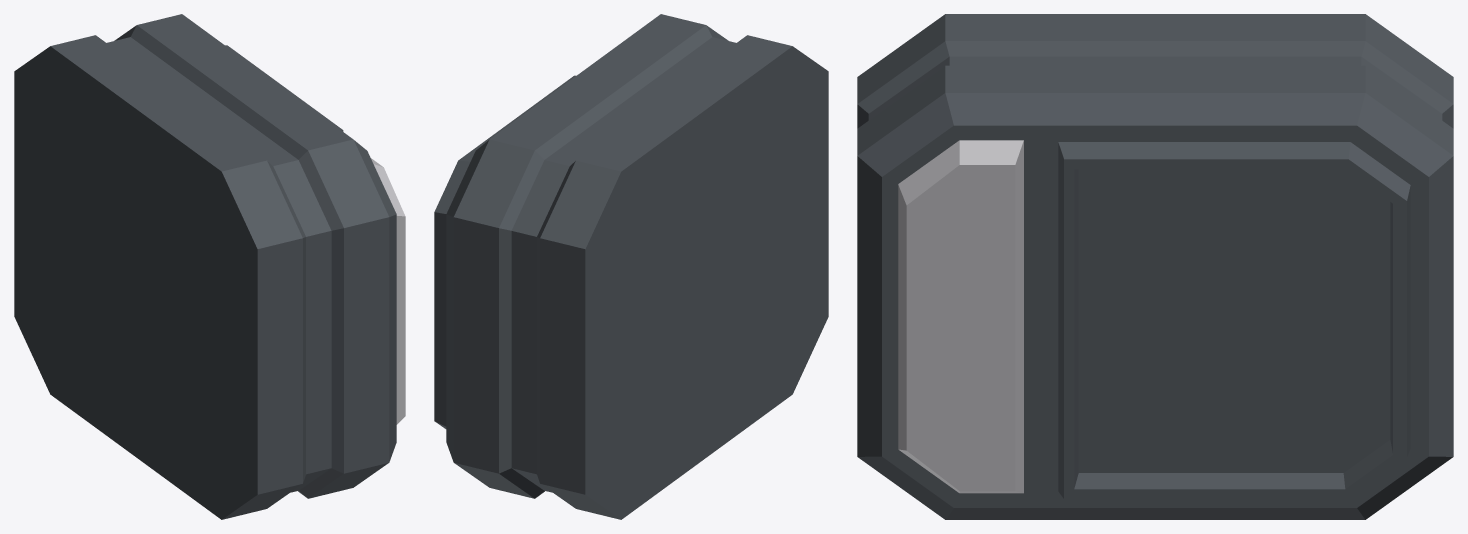
Rendered from Personal_Vehicle_02_Engine_Hatch.fbx.
3 renders of one model, left to right at view 1: azimuth 30°, elevation 25°; view 2: azimuth 150°, elevation 25°; view 3: azimuth 270°, elevation 25°, orthographic. The views are drawn at different scales.
Visible parts, largest first — view 1: Personal_Vehicle_02_Engine_Hatch; view 2: Personal_Vehicle_02_Engine_Hatch; view 3: Personal_Vehicle_02_Engine_Hatch.
Part boxes in pixels (x1=…): Personal_Vehicle_02_Engine_Hatch: x1=14, y1=14, x2=405, y2=519; Personal_Vehicle_02_Engine_Hatch: x1=434, y1=14, x2=828, y2=519; Personal_Vehicle_02_Engine_Hatch: x1=857, y1=14, x2=1453, y2=519.
Bounding box in the file's own units: 15.22 × 29.79 × 37.68.
Materials: 1 (1 with a texture image).
